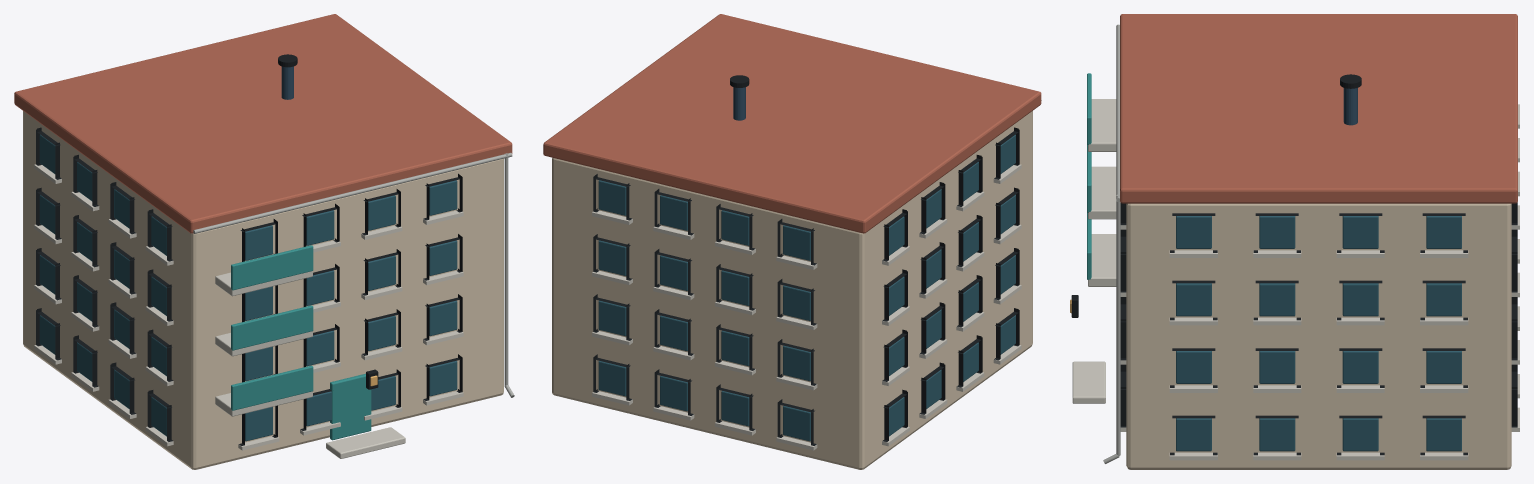
File: RES_MID_2x2_001.glb
The picture shows the model from 3 angles, left to right: view 1: azimuth 30°, elevation 25°; view 2: azimuth 150°, elevation 25°; view 3: azimuth 270°, elevation 25°; orthographic projection. The views are drawn at different scales.
Parts seen in each view (by area): view 1: RES_MID_2x2_001_Visual; view 2: RES_MID_2x2_001_Visual; view 3: RES_MID_2x2_001_Visual.
Boxes of the visible parts, bbox=[...] form: RES_MID_2x2_001_Visual: bbox=[14, 14, 514, 469]; RES_MID_2x2_001_Visual: bbox=[543, 14, 1041, 469]; RES_MID_2x2_001_Visual: bbox=[1070, 14, 1519, 469].
Size of what is drawn, in the model's own units: 3.28 by 2.82 by 3.51.
